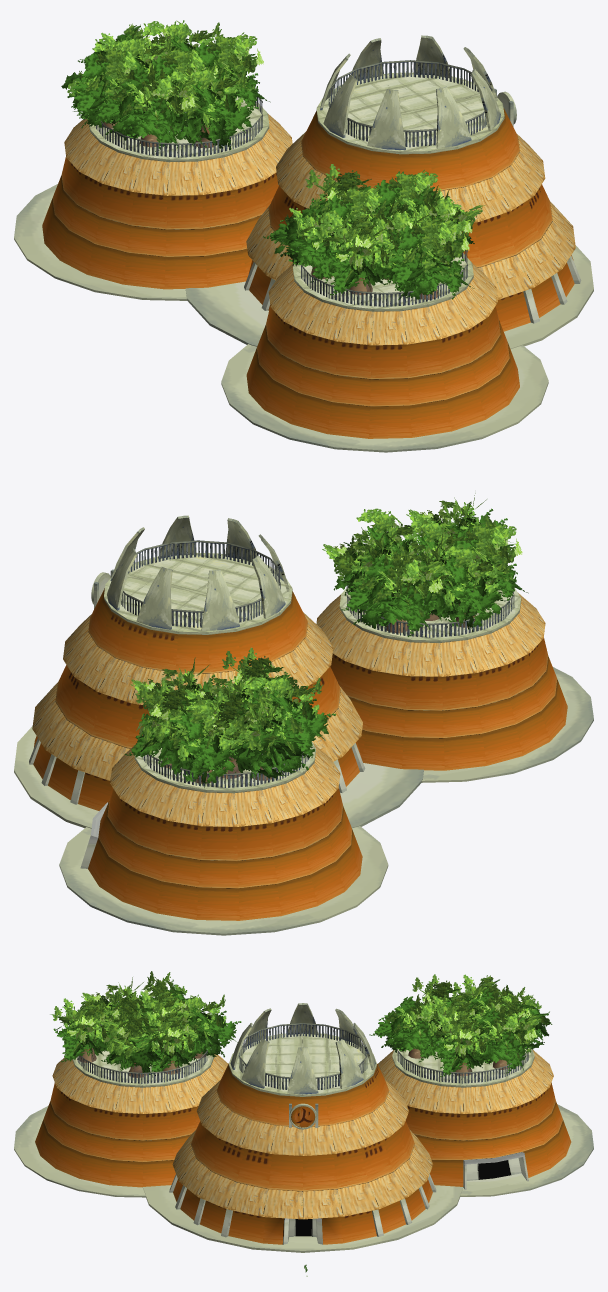
File: office.obj
3 views of the same model, one above another, from view 1: azimuth 30°, elevation 25°; view 2: azimuth 150°, elevation 25°; view 3: azimuth 270°, elevation 25° (orthographic). The views are drawn at different scales.
Visible parts, largest first — view 1: Office_Untitled.027, polySurface459_Untitled.025, polySurface318_Untitled.011, polySurface324_Untitled.028, polySurface325_Untitled.002, polySurface320_Untitled.009, polySurface321_Untitled.019, polySurface322_Untitled.007, polySurface319_Untitled.013, polySurface323_Untitled.017; view 2: Office_Untitled.027, polySurface459_Untitled.025, polySurface323_Untitled.017, polySurface325_Untitled.002, polySurface324_Untitled.028, polySurface321_Untitled.019, polySurface320_Untitled.009, polySurface318_Untitled.011, polySurface322_Untitled.007, polySurface319_Untitled.013; view 3: Office_Untitled.027, polySurface459_Untitled.025, polySurface318_Untitled.011, polySurface320_Untitled.009, polySurface321_Untitled.019, polySurface323_Untitled.017, polySurface319_Untitled.013, polySurface322_Untitled.007, polySurface324_Untitled.028, polySurface325_Untitled.002.
Part boxes in pixels (x1,y1,x2,y2): Office_Untitled.027: (14,35,593,452); polySurface459_Untitled.025: (61,20,270,151); polySurface318_Untitled.011: (383,217,474,300); polySurface324_Untitled.028: (313,213,397,295); polySurface325_Untitled.002: (263,197,357,282); polySurface320_Untitled.009: (396,185,485,256); polySurface321_Untitled.019: (372,169,444,220); polySurface322_Untitled.007: (321,185,392,252); polySurface319_Untitled.013: (351,199,441,284); polySurface323_Untitled.017: (305,164,375,217); Office_Untitled.027: (14,515,593,935); polySurface459_Untitled.025: (125,647,335,787); polySurface323_Untitled.017: (341,550,446,636); polySurface325_Untitled.002: (424,543,511,632); polySurface324_Untitled.028: (443,522,528,604); polySurface321_Untitled.019: (322,521,416,613); polySurface320_Untitled.009: (343,508,427,578); polySurface318_Untitled.011: (406,493,510,554); polySurface322_Untitled.007: (378,531,461,620); polySurface319_Untitled.013: (402,517,474,565); Office_Untitled.027: (14,1003,593,1252); polySurface459_Untitled.025: (369,974,552,1076); polySurface318_Untitled.011: (50,998,120,1062); polySurface320_Untitled.009: (101,1008,175,1077); polySurface321_Untitled.019: (139,1010,210,1074); polySurface323_Untitled.017: (165,994,241,1058); polySurface319_Untitled.013: (98,991,159,1046); polySurface322_Untitled.007: (134,990,191,1025); polySurface324_Untitled.028: (81,977,154,1025); polySurface325_Untitled.002: (127,971,197,1015).
Bounding box in the file's own units: 24.85 × 18.82 × 37.21.
2 materials, 2 textured.
